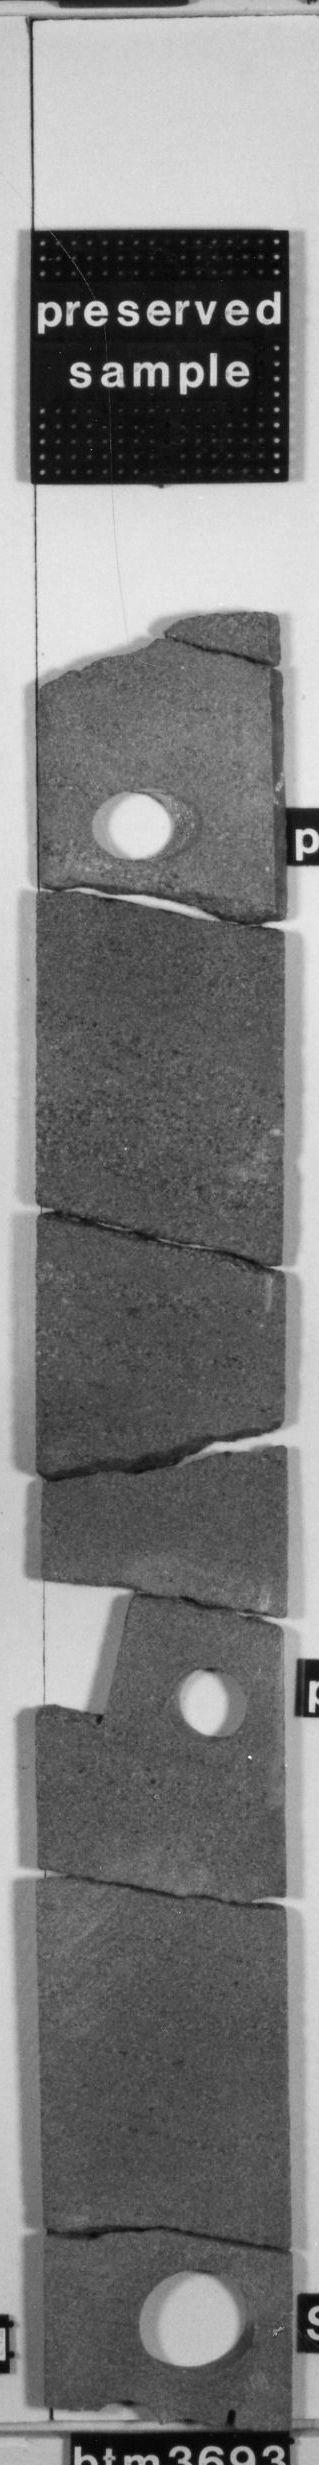hplug: (60, 780, 211, 869), (160, 1651, 266, 1751)
scal: (118, 2256, 270, 2386)
vplug: (41, 1559, 145, 1737)
